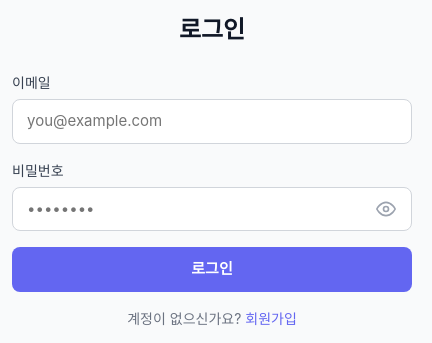
Test case: LoginForm login flow › 제출 중에는 버튼이 비활성화된다
Type "test@example.com" into the field labelled "이메일" at (212, 121), box x1=12 y1=99 x2=412 y2=144
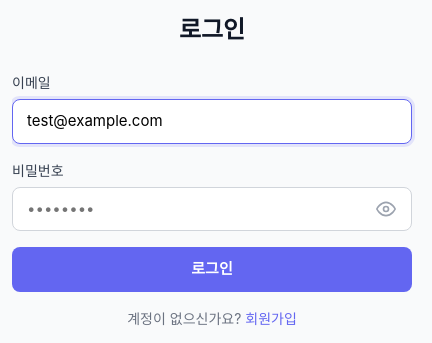
Type "password123" into the password field labelled "비밀번호" at (212, 209), box x1=12 y1=186 x2=412 y2=231
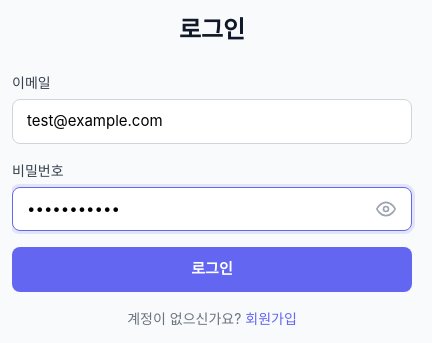
Click the button "로그인" at (212, 269), box x1=12 y1=247 x2=412 y2=292
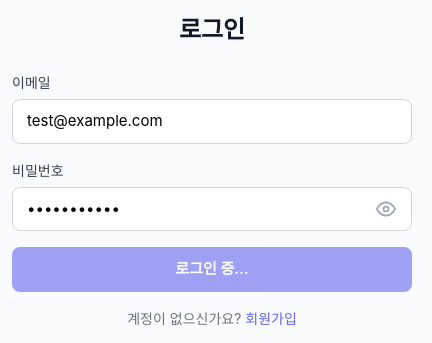
Expected: the button "로그인 중..." is disabled, x1=12 y1=247 x2=412 y2=292
